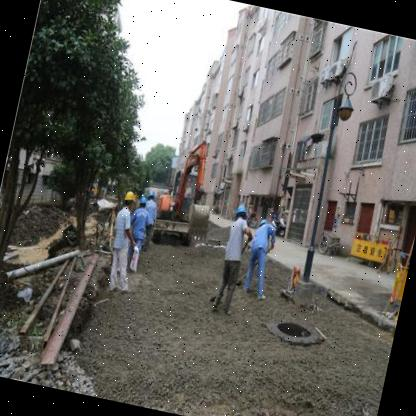capacete: (234, 198, 250, 216), (118, 190, 135, 204), (136, 194, 152, 206), (144, 188, 158, 200)
